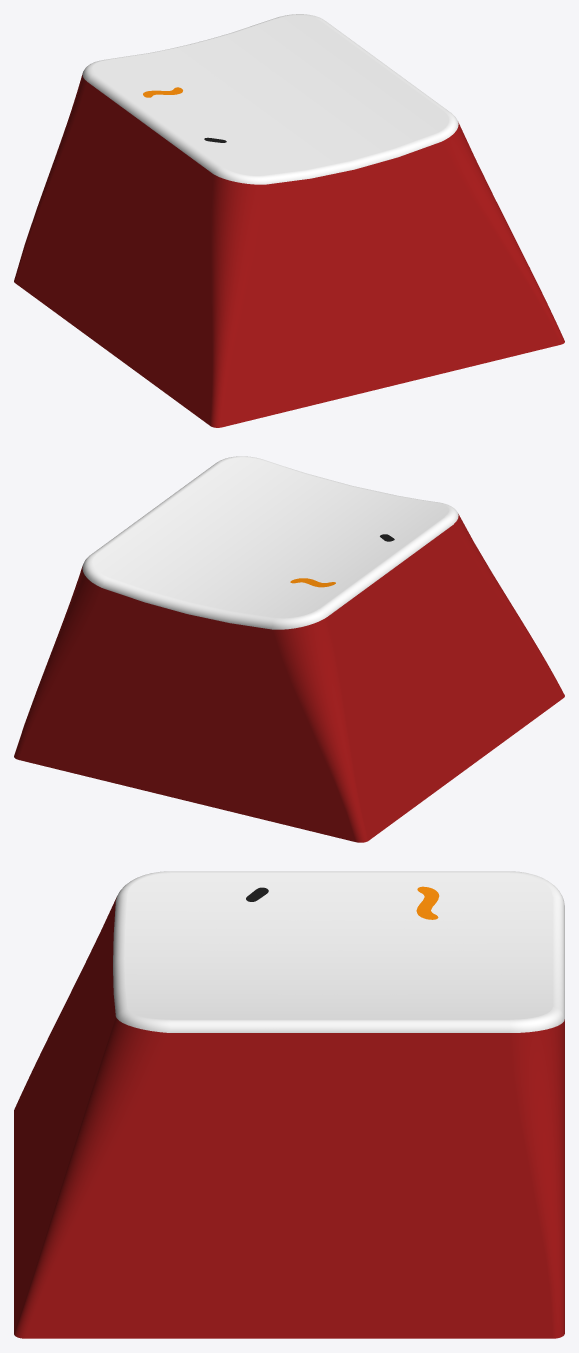
The model's file is Tilde.fbx.
The picture shows the model from 3 angles, top to bottom: view 1: azimuth 30°, elevation 25°; view 2: azimuth 150°, elevation 25°; view 3: azimuth 270°, elevation 25°; orthographic projection. The views are drawn at different scales.
Parts seen in each view (by area): view 1: Body1; view 2: Body1; view 3: Body1.
Part boxes in pixels (x1=…): Body1: x1=14, y1=14, x2=564, y2=427; Body1: x1=14, y1=456, x2=564, y2=842; Body1: x1=14, y1=871, x2=564, y2=1338.
Size of the model in its own units: 18 by 9.95 by 18.
